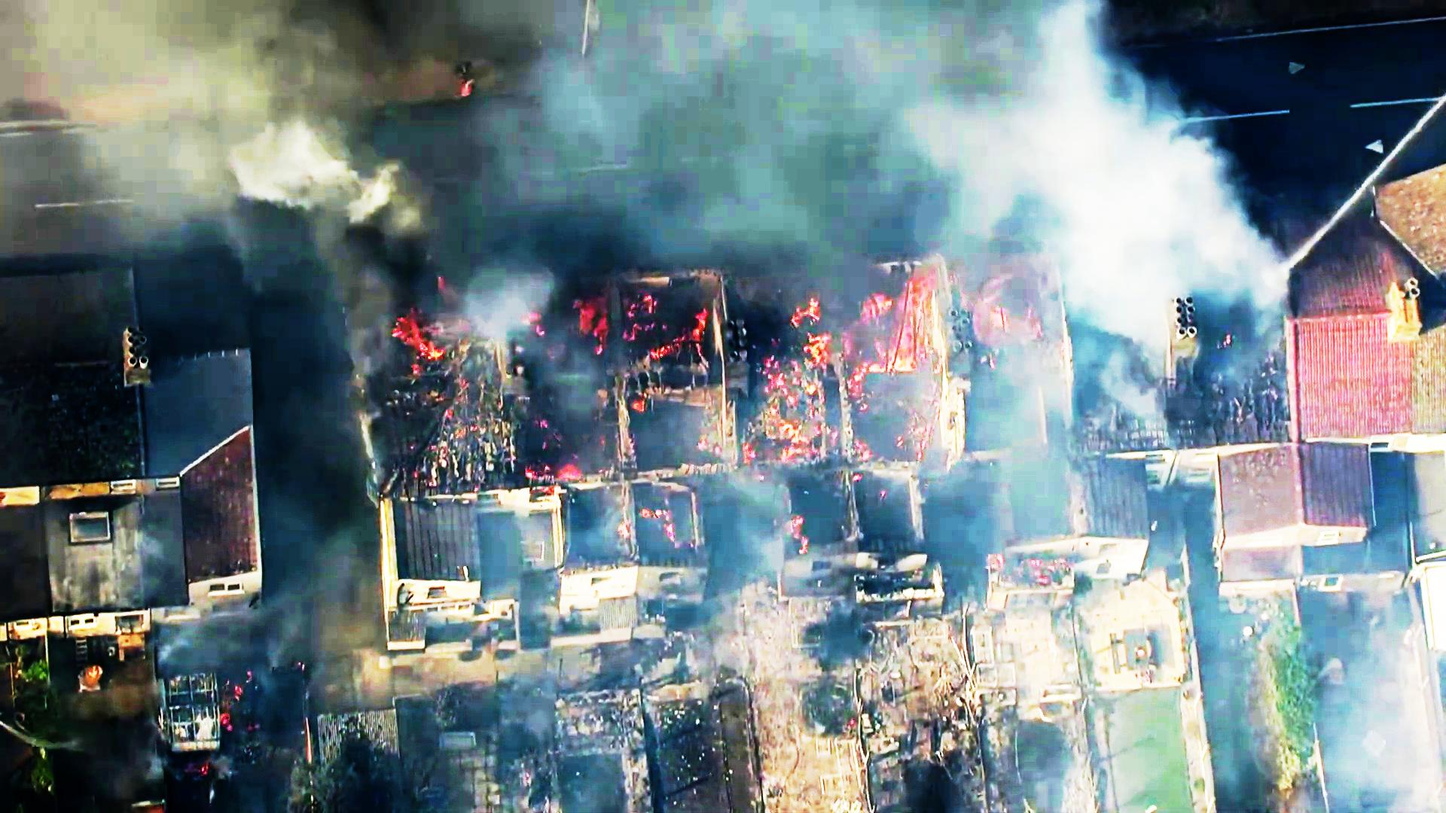fire: (849, 260, 930, 369)
smoke: (644, 4, 1118, 225), (993, 65, 1254, 309)
